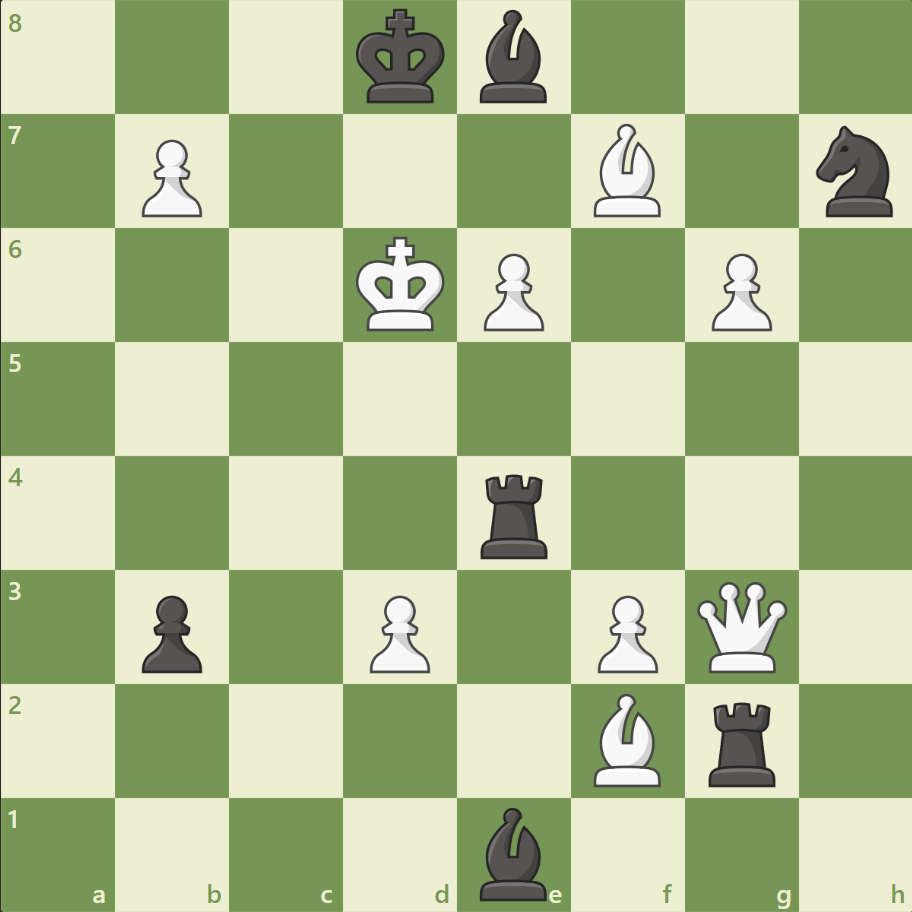B: (585, 687, 669, 790), (585, 120, 669, 222)
K: (351, 231, 451, 339)
P: (133, 132, 208, 223), (474, 246, 549, 337), (701, 246, 776, 337), (361, 586, 435, 677), (588, 586, 662, 677)
Q: (691, 576, 790, 676)
b: (471, 6, 555, 109), (471, 801, 555, 904)
k: (351, 4, 451, 112)
n: (806, 121, 903, 223)
p: (133, 586, 208, 677)
r: (473, 466, 556, 563), (700, 693, 783, 790)
